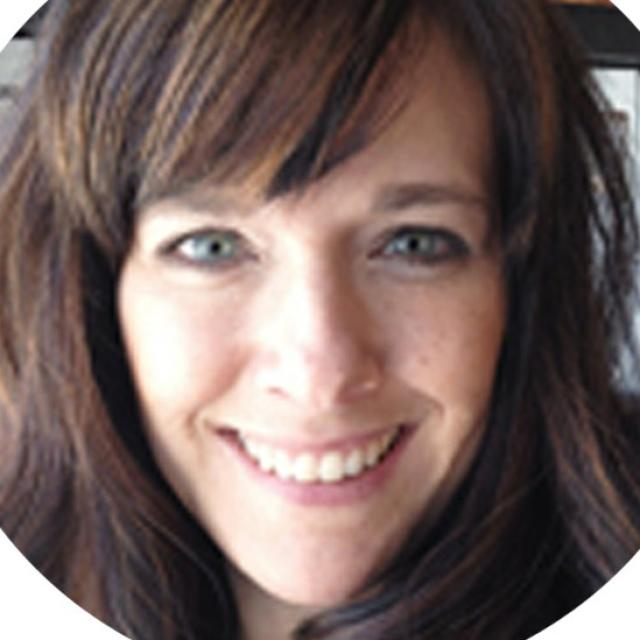Normal: (115, 15, 528, 618)
